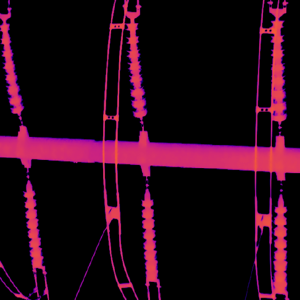insulator: (0, 20, 22, 113), (126, 20, 147, 116), (22, 178, 43, 268), (269, 17, 287, 121), (140, 188, 158, 283), (272, 191, 286, 296)
